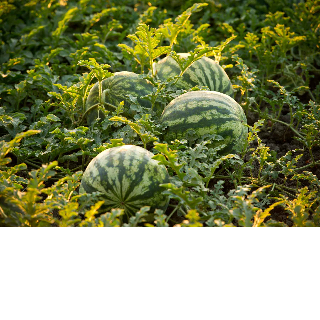dua_hau: (154, 89, 249, 169), (81, 143, 170, 222)
